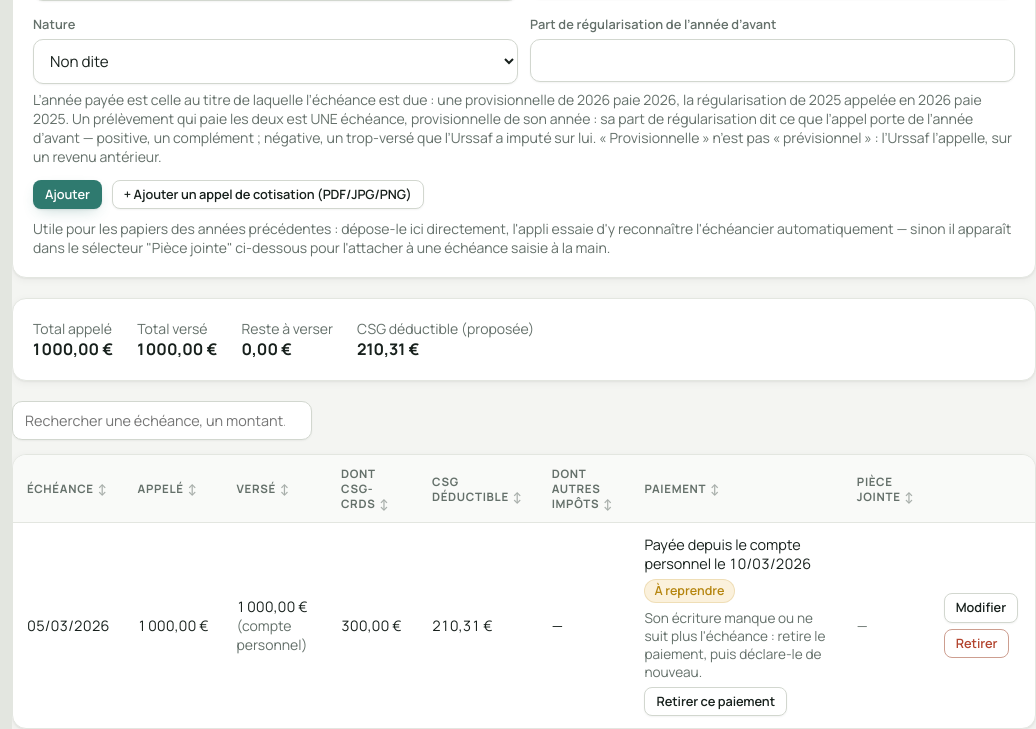
Scenario: CotisationsTab — retirer un paiement personnel › dit le refus de la base
(page scrolled)
Click the button "Retirer ce paiement" at (716, 701), box x1=644 y1=687 x2=787 y2=716
(page scrolled)
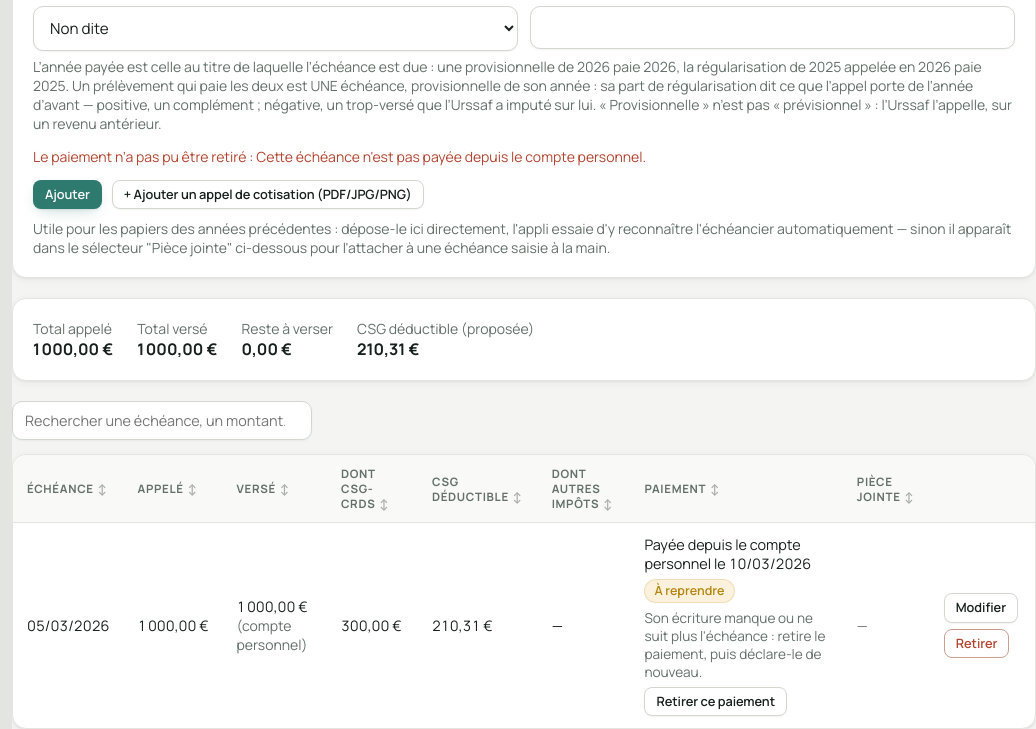
Check: the text "Le paiement n’a pas pu être retiré : Cette échéance n'est pas payée depuis le compte personnel." is shown, box x1=33 y1=147 x2=646 y2=166
